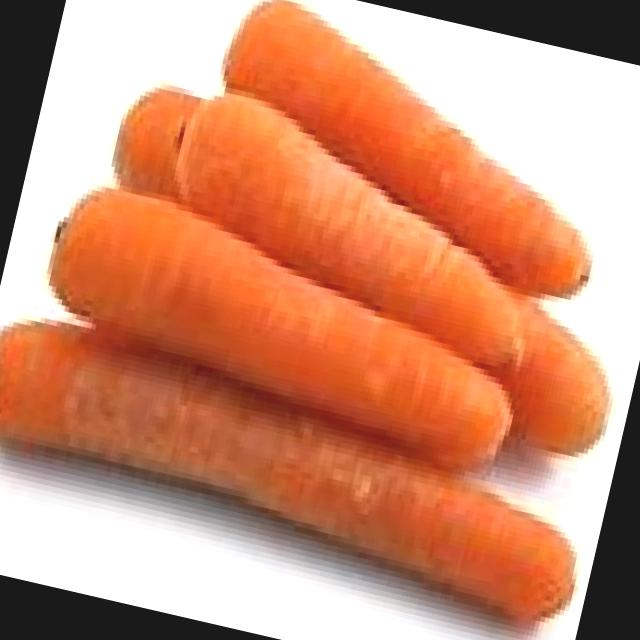carrot: (0, 322, 578, 626), (52, 193, 517, 478), (220, 0, 590, 300), (181, 96, 519, 367)
